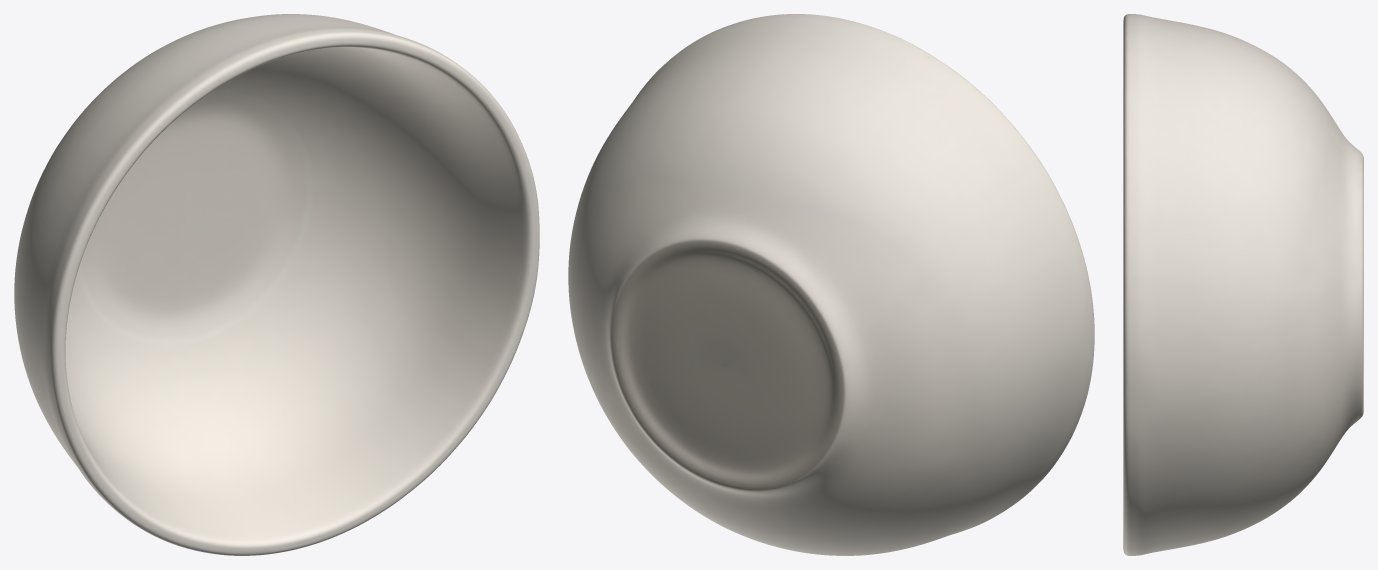
The model's file is white_bowl.obj.
3 views of the same model, side by side, from view 1: azimuth 30°, elevation 25°; view 2: azimuth 150°, elevation 25°; view 3: azimuth 270°, elevation 25° (orthographic). The views are drawn at different scales.
Parts seen in each view (by area): view 1: white_bowl; view 2: white_bowl; view 3: white_bowl.
Boxes of the visible parts, bbox=[...] form: white_bowl: bbox=[14, 14, 539, 555]; white_bowl: bbox=[568, 14, 1094, 555]; white_bowl: bbox=[1123, 14, 1363, 555].
Bounding box in the file's own units: 0.1189 × 0.1188 × 0.0526.
Materials: 1 (1 with a texture image).
